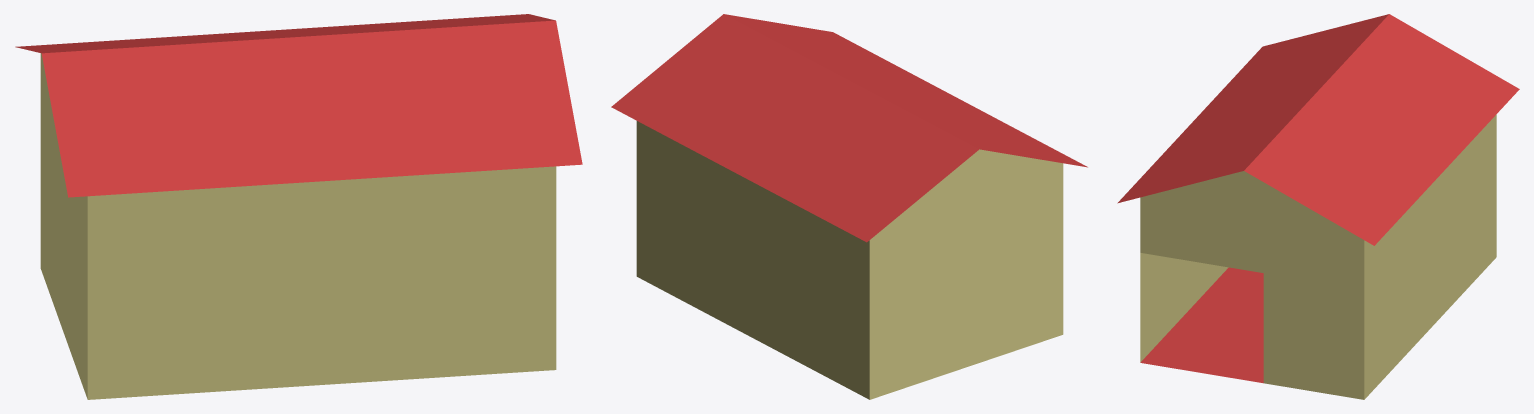
3 renders of one model, left to right at view 1: azimuth 30°, elevation 25°; view 2: azimuth 150°, elevation 25°; view 3: azimuth 270°, elevation 25°, orthographic. The views are drawn at different scales.
Bounding box in the file's own units: 19.88 × 16.96 × 10.09.
